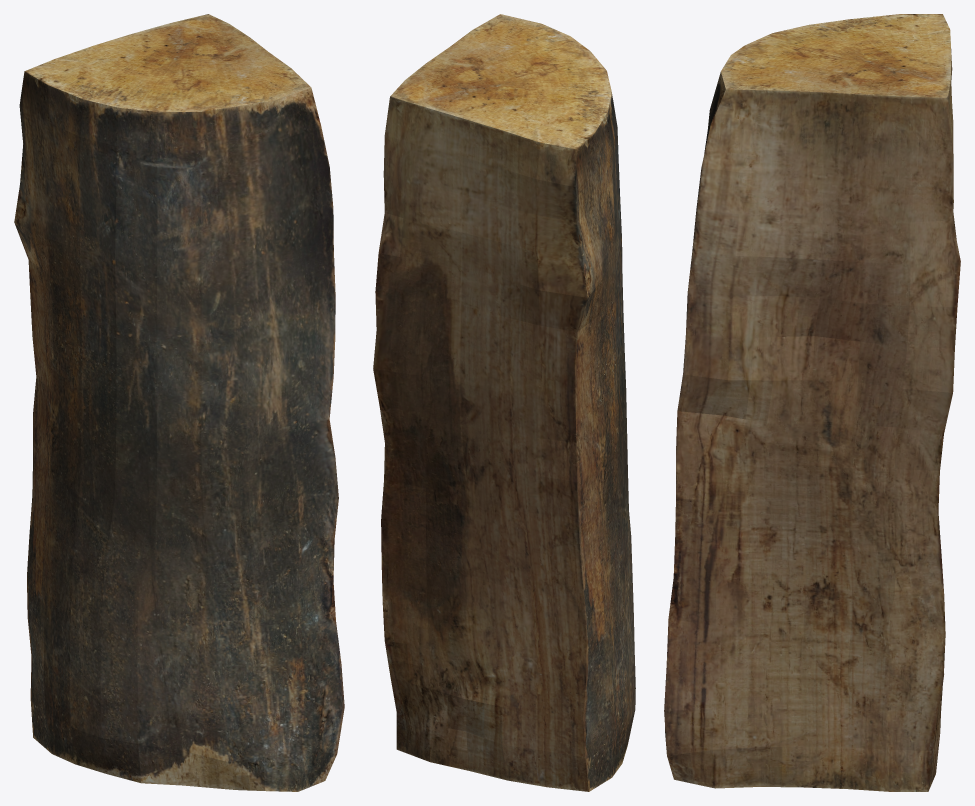
The model's file is firewood.glb.
The picture shows the model from 3 angles, left to right: view 1: azimuth 30°, elevation 25°; view 2: azimuth 150°, elevation 25°; view 3: azimuth 270°, elevation 25°; orthographic projection. The views are drawn at different scales.
Visible parts, largest first — view 1: firewood; view 2: firewood; view 3: firewood.
Boxes of the visible parts, x1,y1,x2,y2 form: firewood: (14, 14, 344, 791); firewood: (373, 14, 635, 791); firewood: (664, 14, 960, 791).
Bounding box in the file's own units: 0.3269 × 1 × 0.3829.
Materials: 1 (1 with a texture image).
